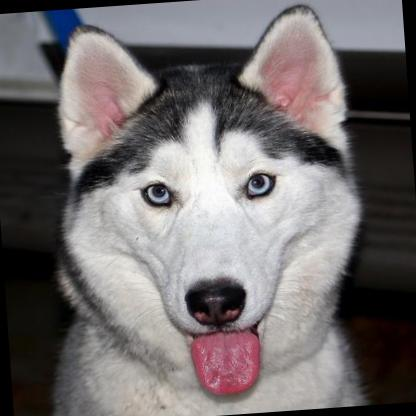Siberian_husky: (19, 0, 378, 416)
